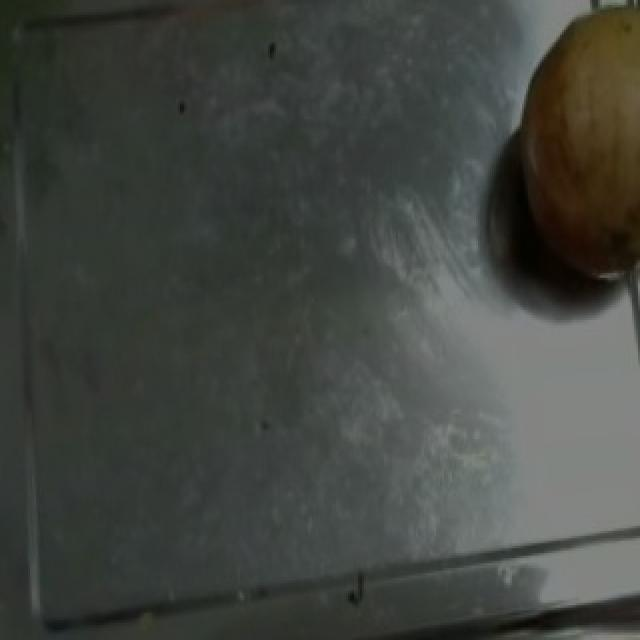fruit: (510, 12, 638, 300)
